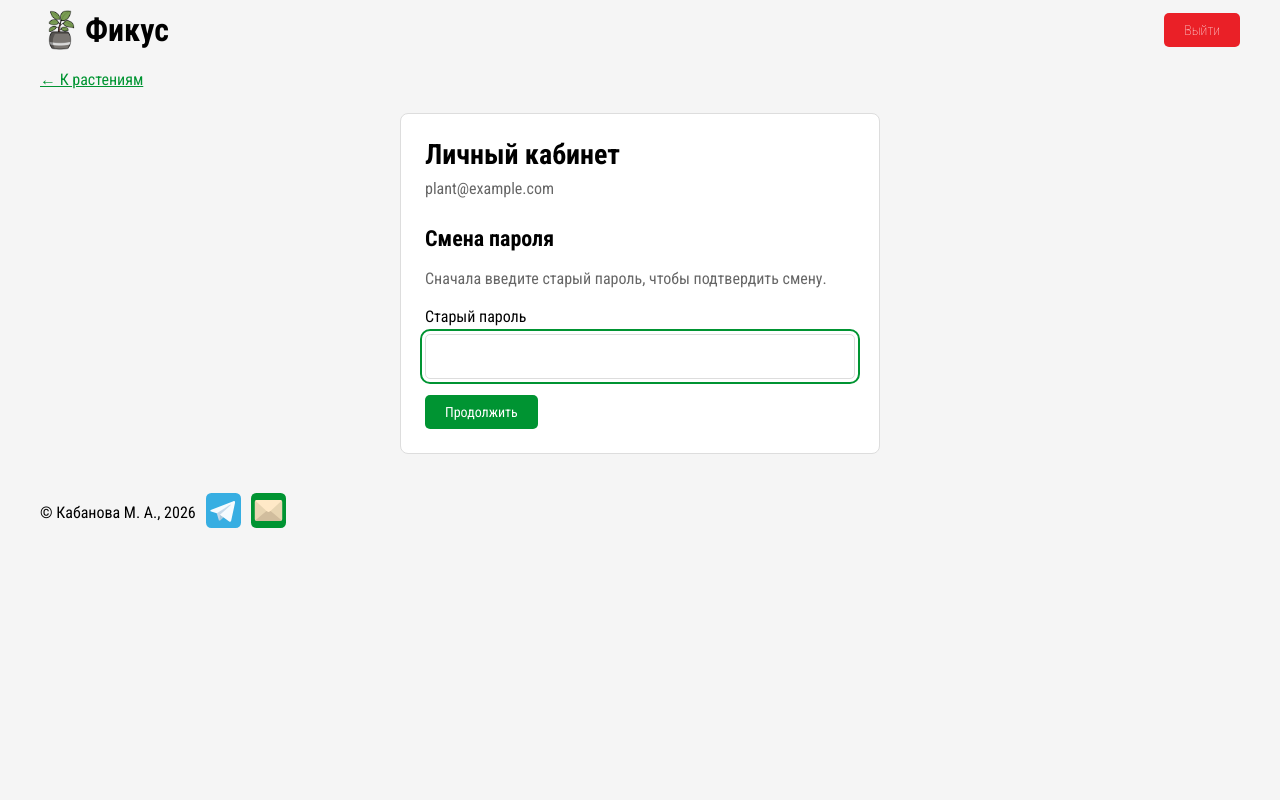
it: does not save invalid new passwords
The width and height of the screenshot is (1280, 800).
Step 1. Type "old-password" into the password field labelled "Старый пароль" → coordinates (640, 356), box [425,334,855,379]
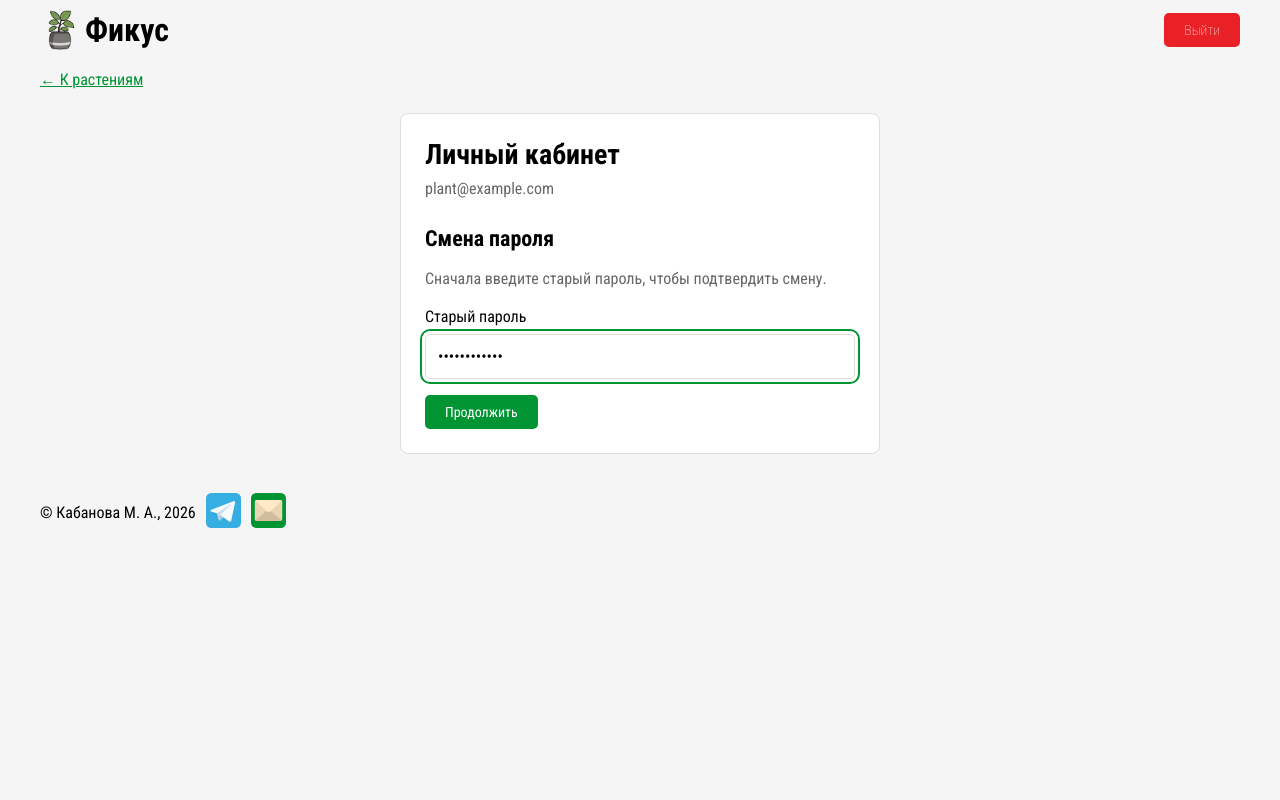
Step 2. Submit the form "Смена пароля", box [425,226,855,429]
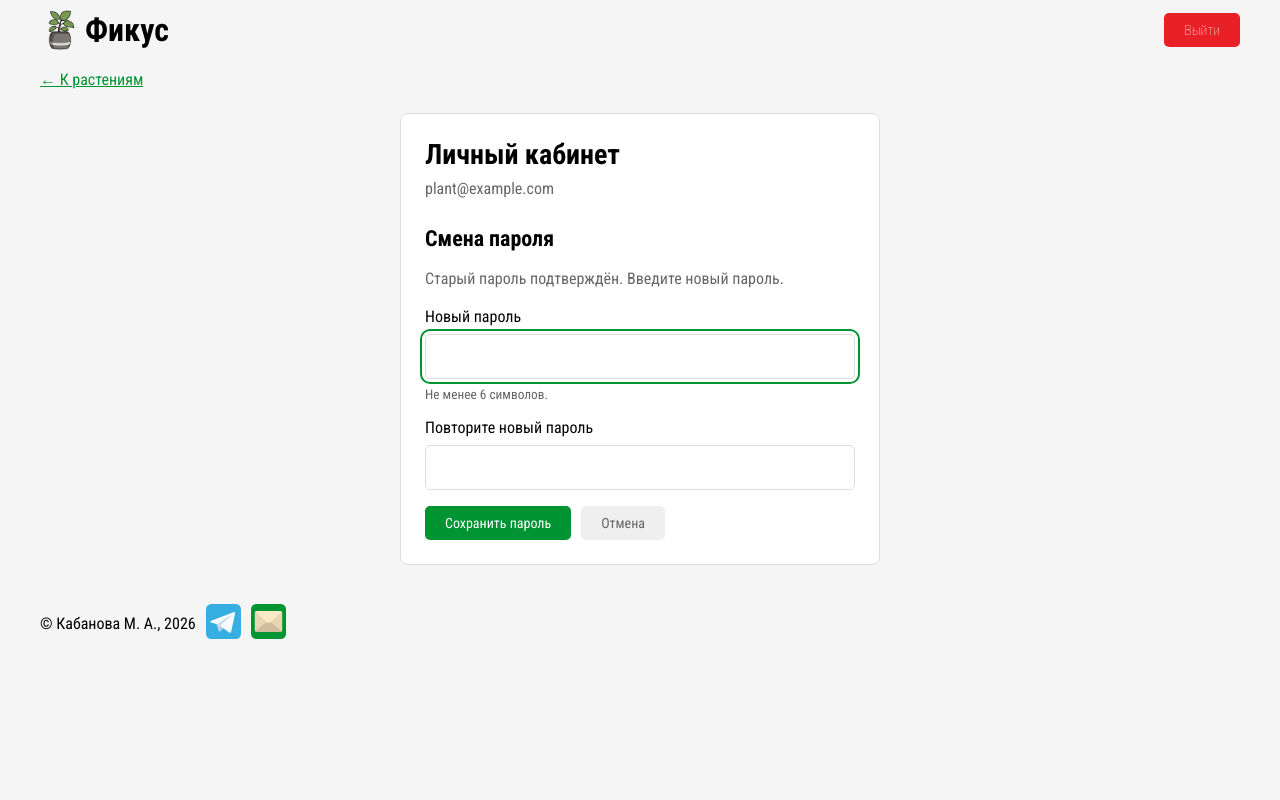
expect the password field labelled "Новый пароль" is shown: met
Step 3. Type "short" into the password field labelled "Новый пароль" → coordinates (640, 356), box [425,334,855,379]
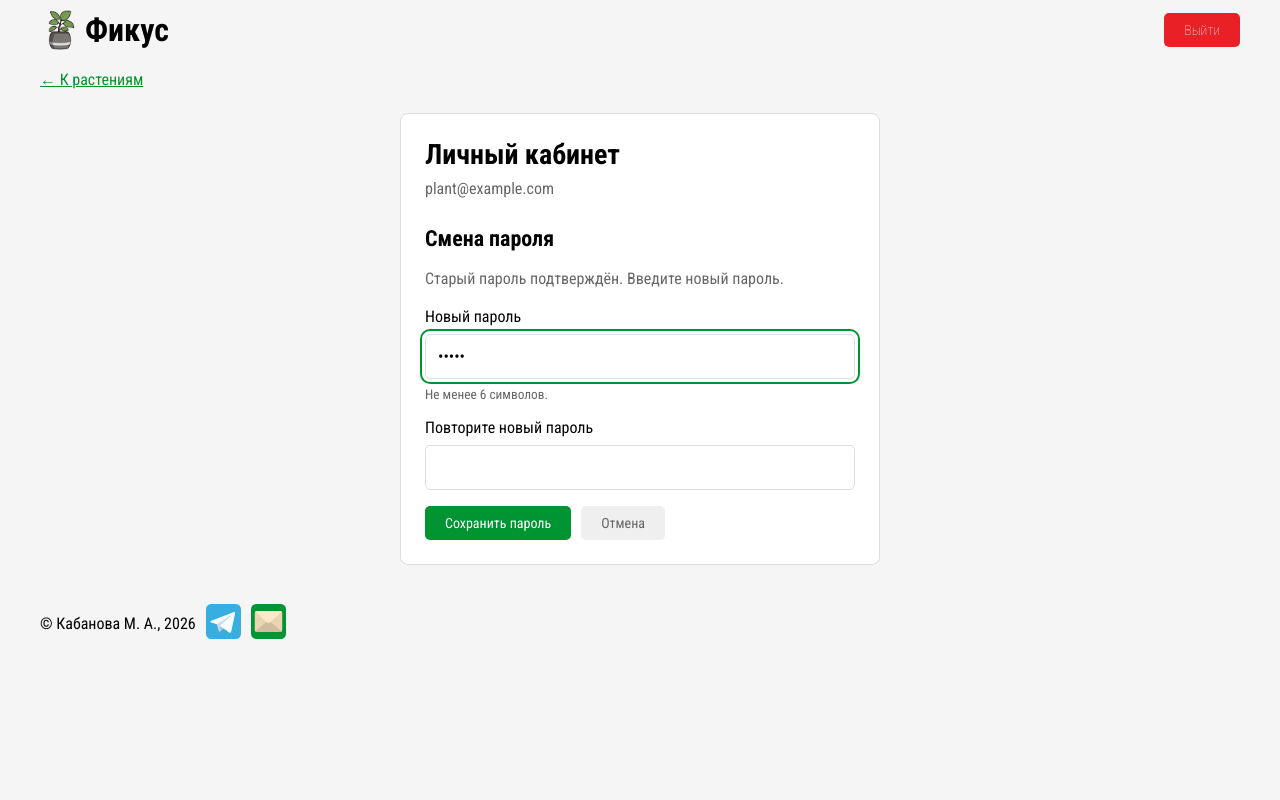
Step 4. Type "short" into the password field labelled "Повторите новый пароль" → coordinates (640, 468), box [425,445,855,490]
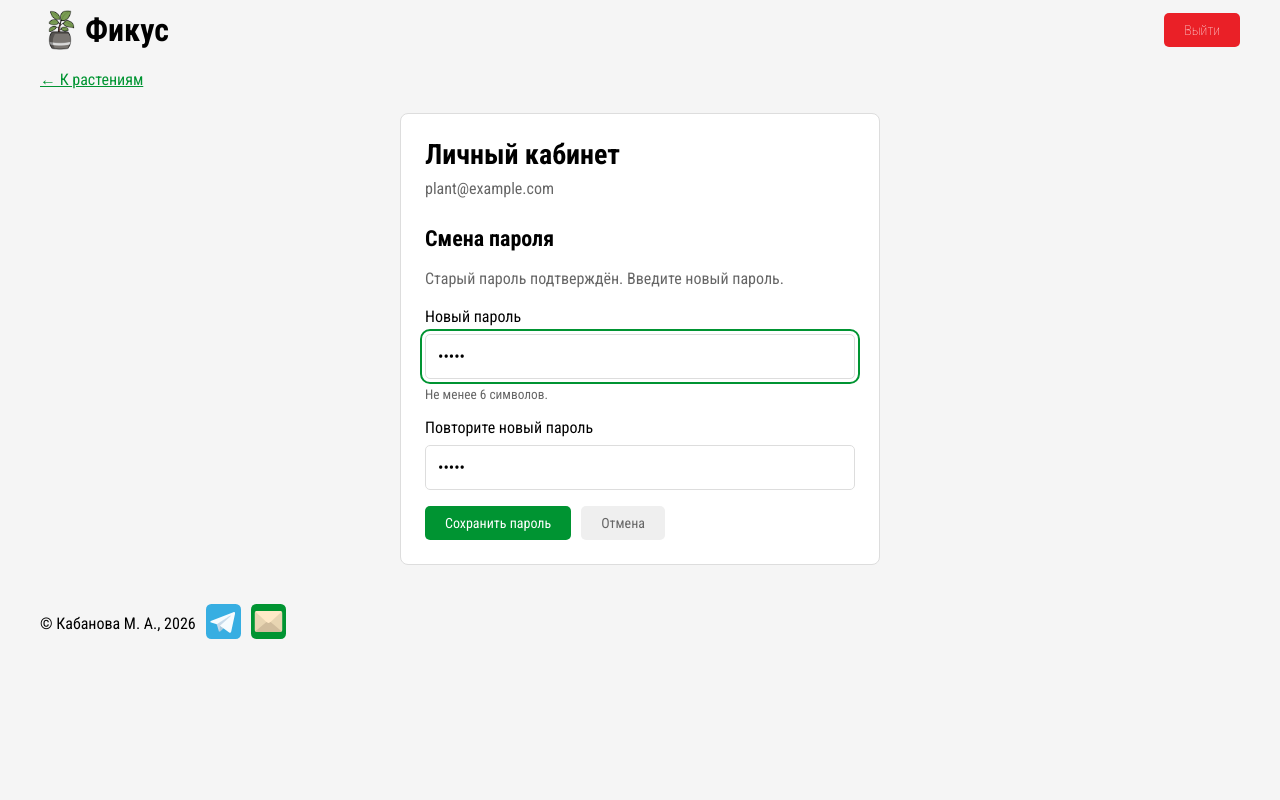
Step 5. Submit the form "Смена пароля", box [425,226,855,540]
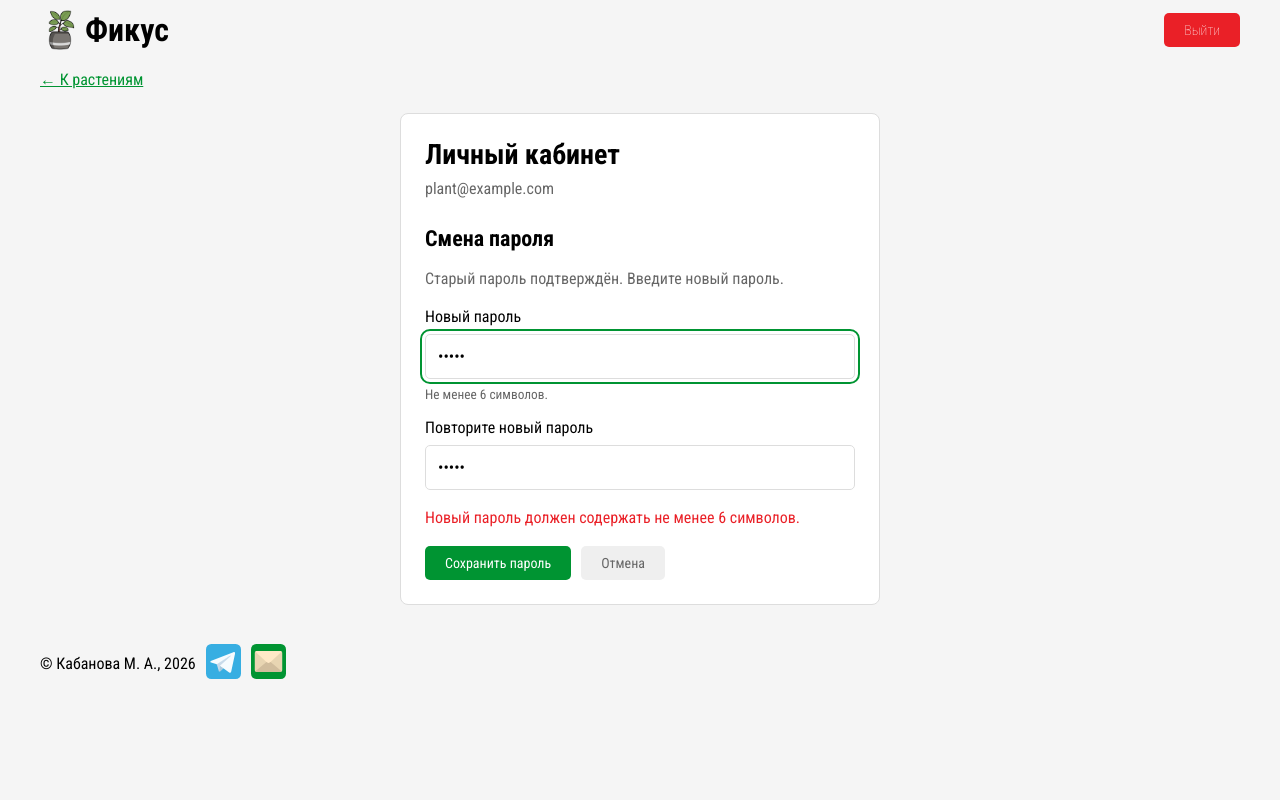
expect the message shows "не менее 6 символов": met, box [425,508,800,527]
